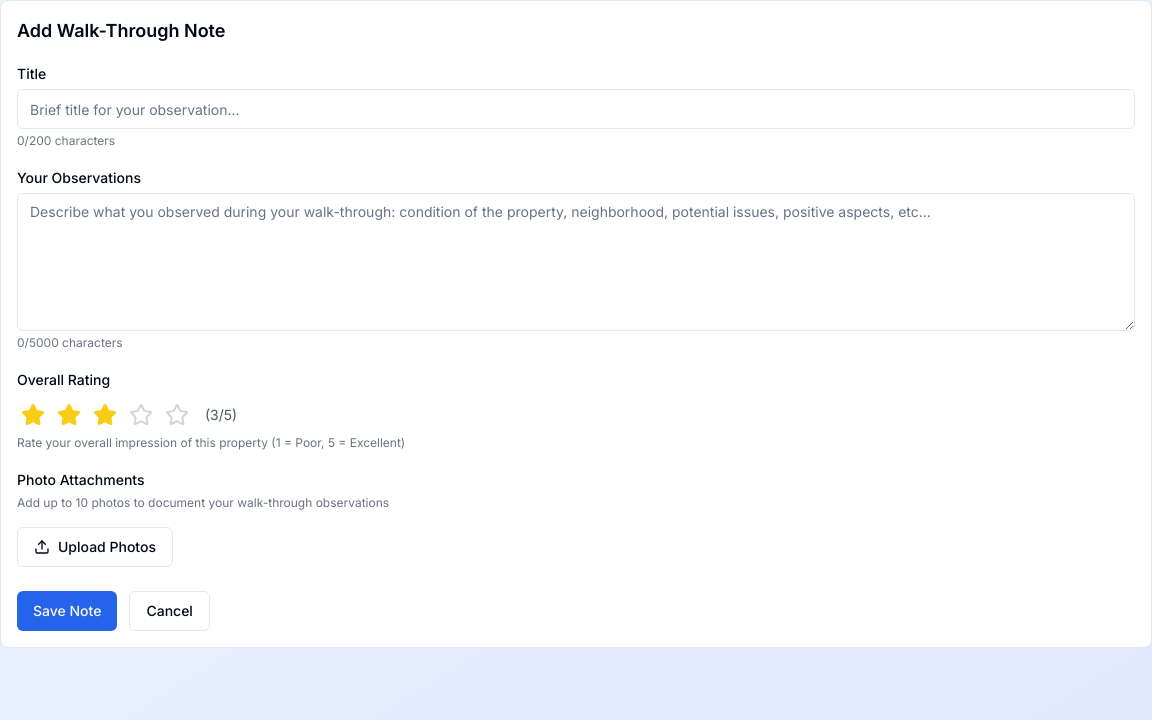
it: WalkThroughNoteForm Component › handles star rating clicks
The image size is (1152, 720).
Expected: the text "(3/5)" is shown, x1=205 y1=405 x2=237 y2=425
Click the 5th button.
click(177, 415)  # box x1=161 y1=399 x2=193 y2=431
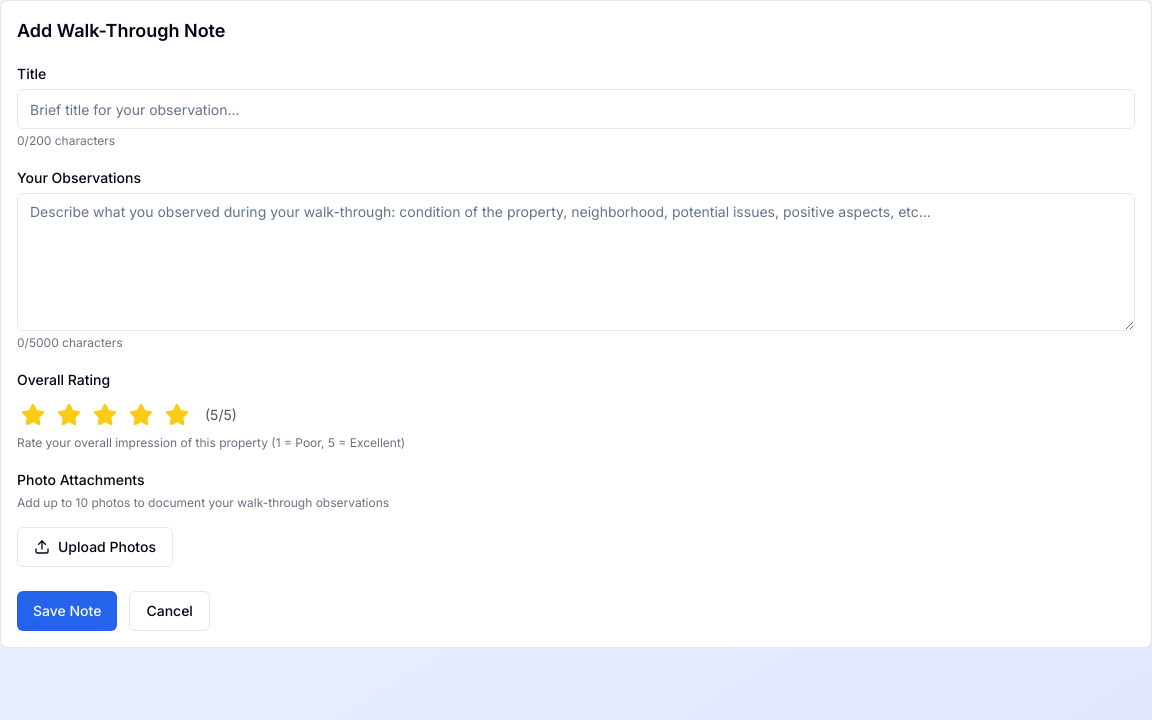
Expected: the text "(5/5)" is shown, x1=205 y1=405 x2=237 y2=425
